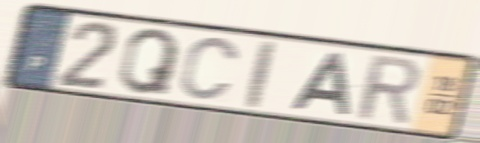2: (55, 19, 122, 93)
A: (288, 52, 354, 118)
C: (177, 35, 243, 103)
I: (244, 37, 279, 111)
Q: (117, 26, 183, 97)
R: (355, 52, 421, 127)
